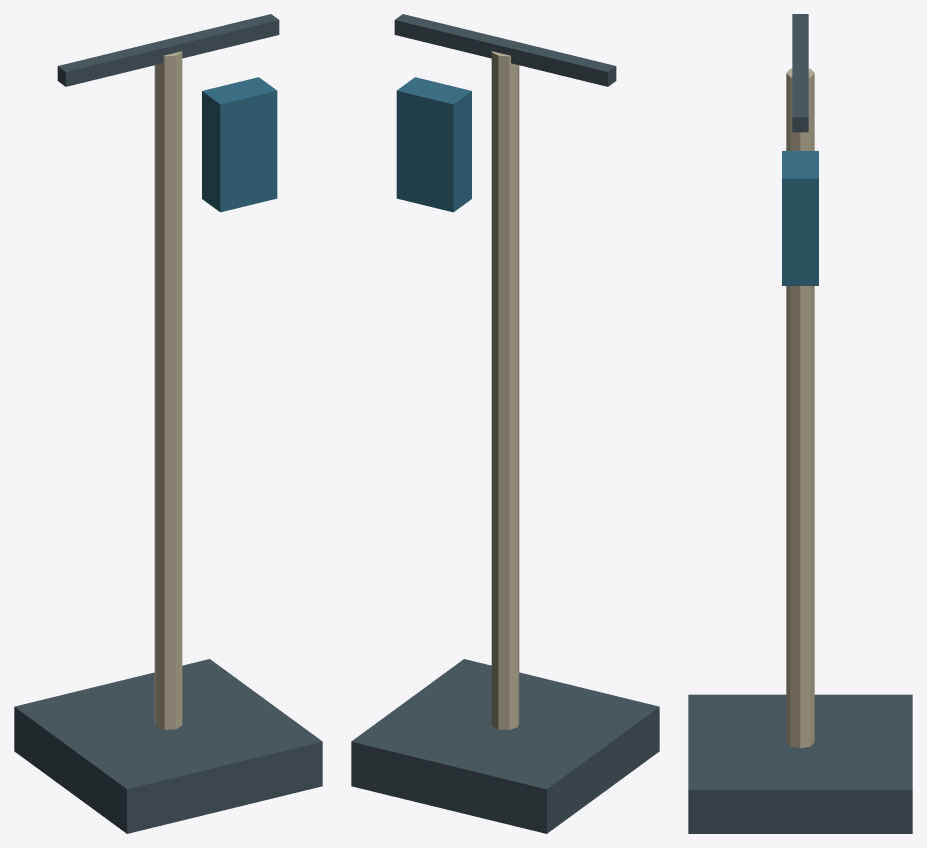
The model's file is iv_stand.glb.
The picture shows the model from 3 angles, left to right: view 1: azimuth 30°, elevation 25°; view 2: azimuth 150°, elevation 25°; view 3: azimuth 270°, elevation 25°; orthographic projection.
Parts seen in each view (by area): view 1: iv_stand; view 2: iv_stand; view 3: iv_stand.
Part boxes in pixels (x1,y1,x2,y2): iv_stand: (14, 14, 322, 833); iv_stand: (351, 14, 659, 833); iv_stand: (688, 14, 912, 833).
Bounding box in the file's own units: 0.6 × 1.95 × 0.55.
